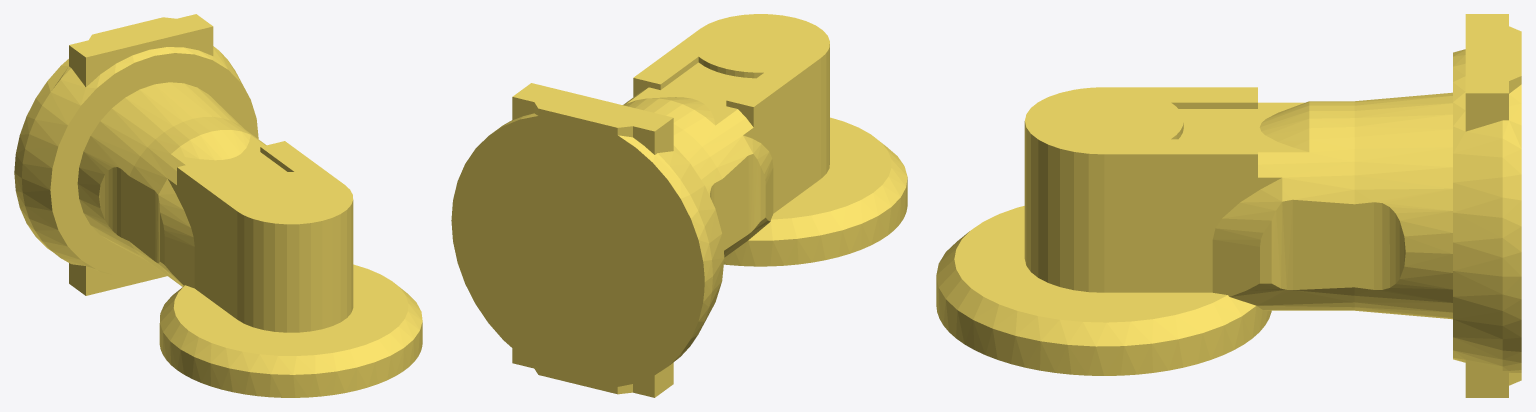
3 renders of one model, left to right at view 1: azimuth 30°, elevation 25°; view 2: azimuth 150°, elevation 25°; view 3: azimuth 270°, elevation 25°, orthographic. The views are drawn at different scales.
Visible parts, largest first — view 1: /Link4/Link4_002-mesh/0; view 2: /Link4/Link4_002-mesh/0; view 3: /Link4/Link4_002-mesh/0.
Part boxes in pixels (left/top/right/bottom): /Link4/Link4_002-mesh/0: left=14, top=14, right=422, bottom=397; /Link4/Link4_002-mesh/0: left=451, top=14, right=907, bottom=397; /Link4/Link4_002-mesh/0: left=936, top=14, right=1521, bottom=397.
Bounding box in the file's own units: 0.186 × 0.186 × 0.324.
